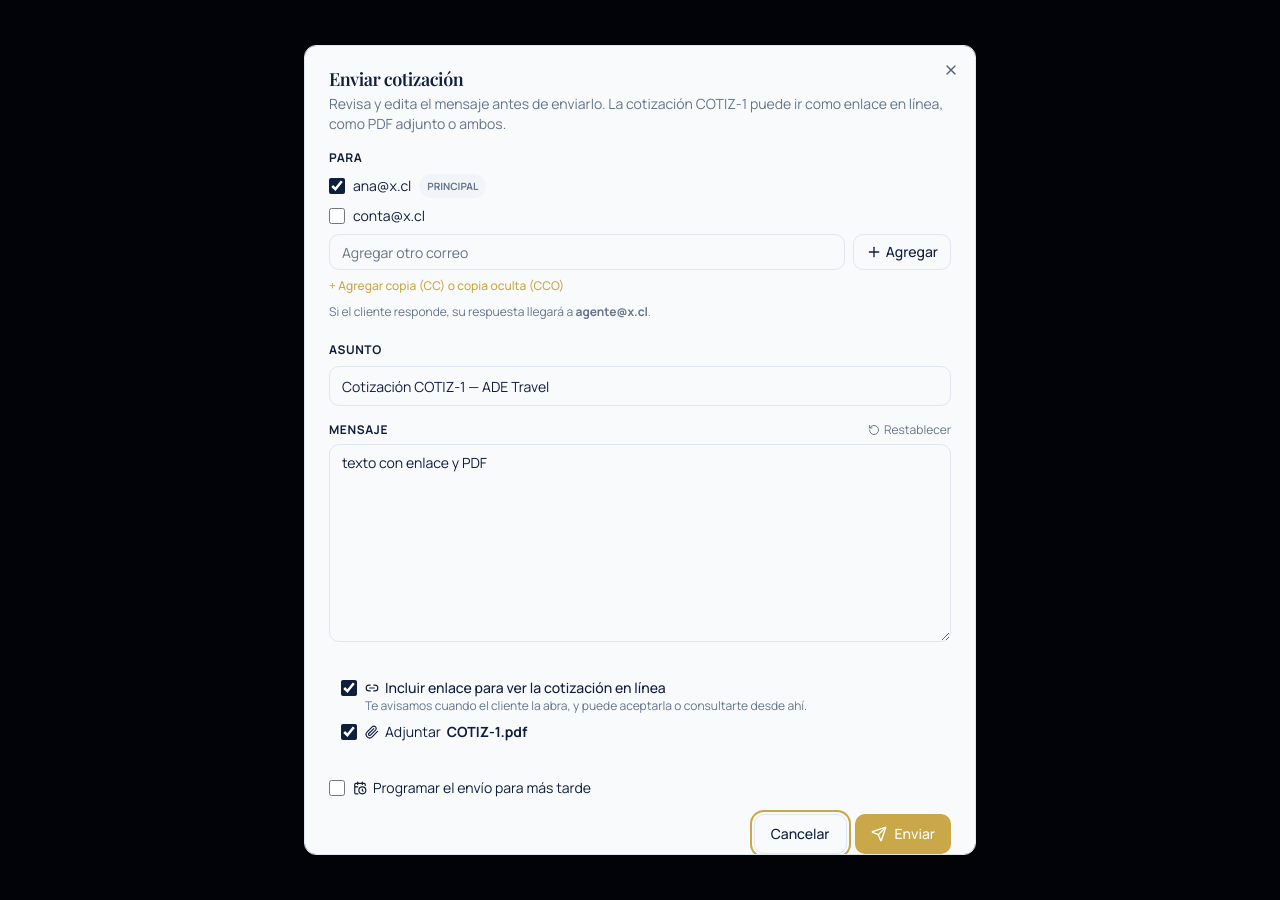
Scenario: SendQuotationDialog › copias, qué se envía y programación › quitar un correo de la copia lo saca de la lista
This screenshot has width=1280, height=900.
Check: the field labelled "Asunto" is shown, box [329,366,951,406]
Click the button "+ Agregar copia (CC) o copia oculta (CCO)". click: (447, 286)
box: [329,278,564,294]
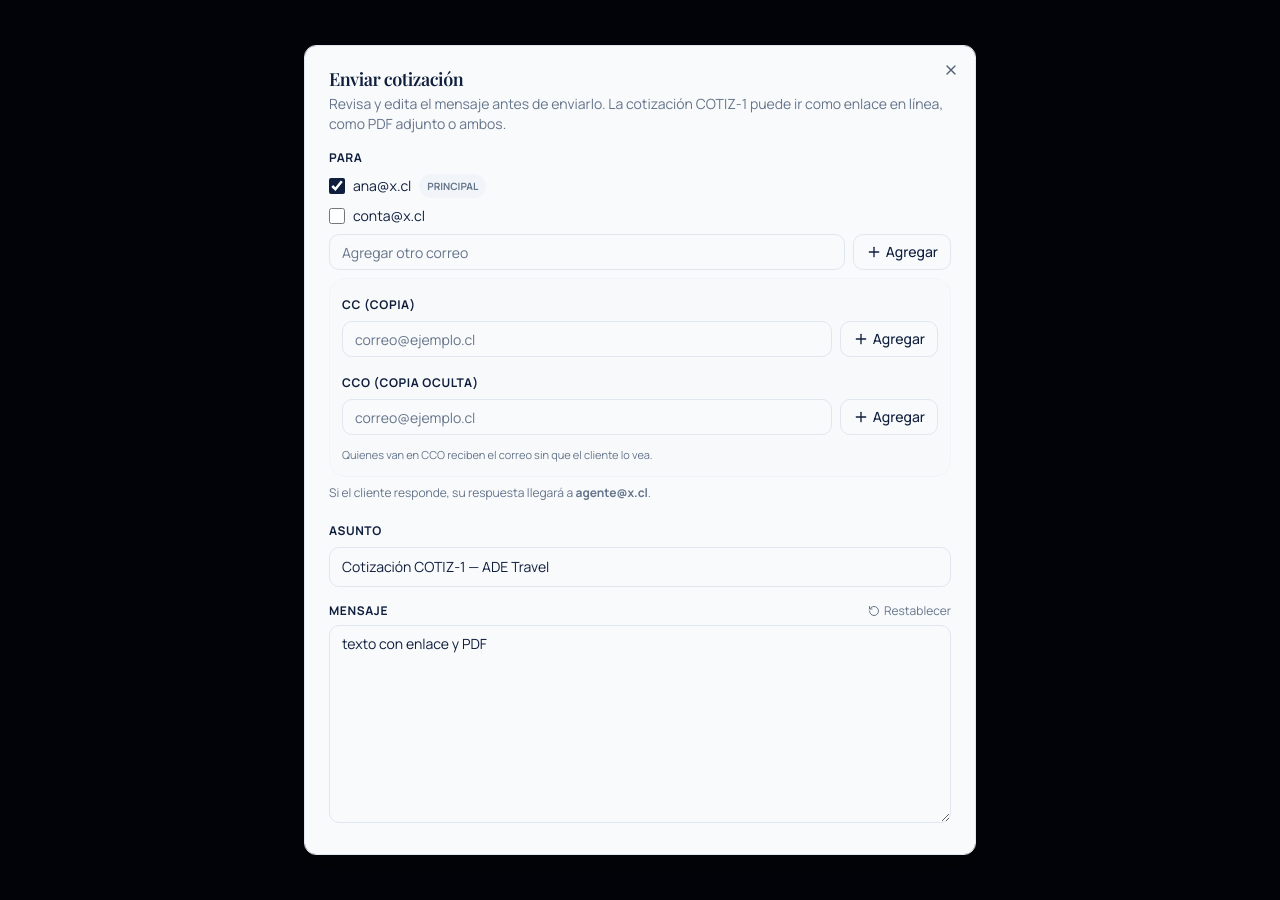
Type "jefe@x.cl" into the field named "Agregar correo en CC (copia)". click: (587, 339)
box: [342,321,832,357]
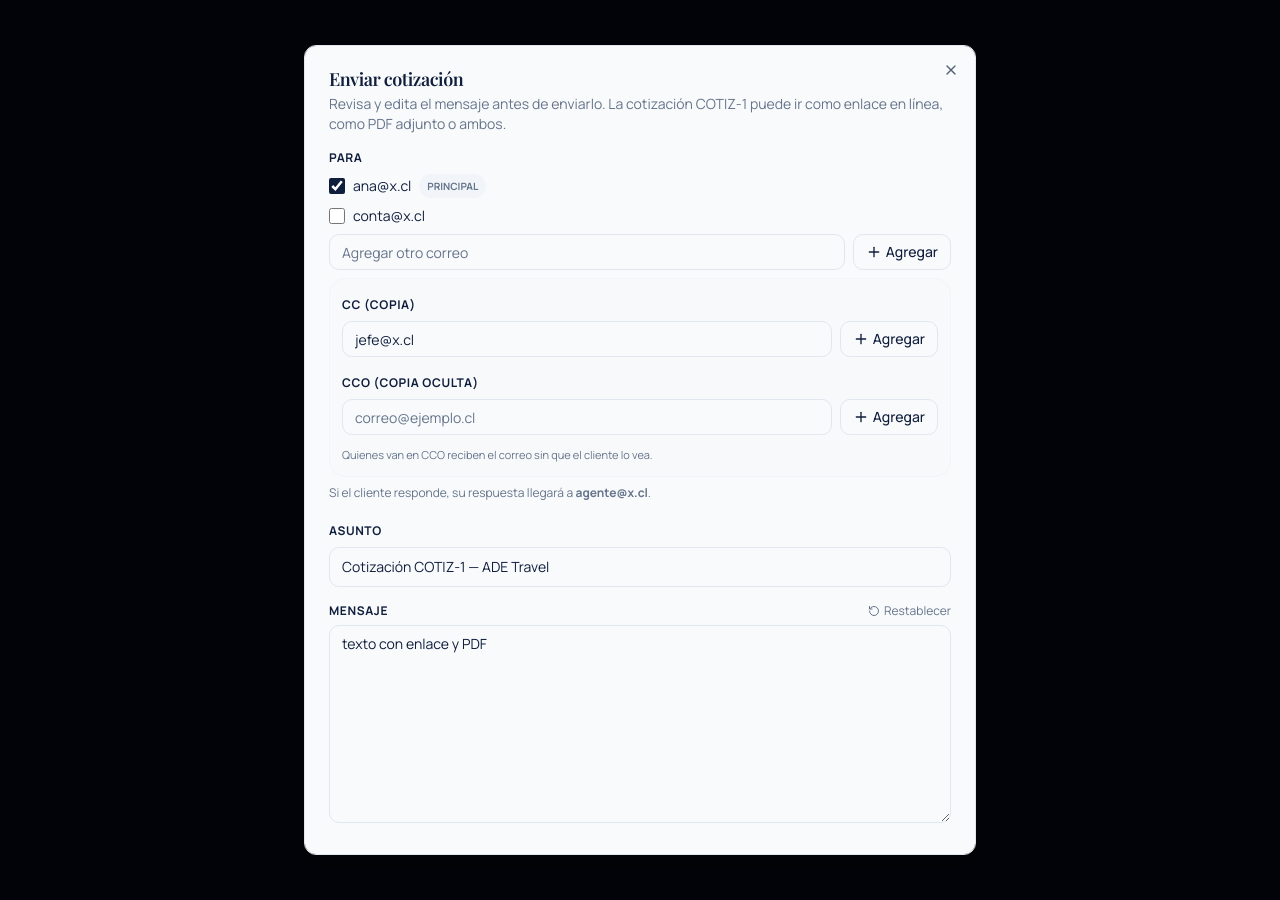
Press Enter in the field named "Agregar correo en CC (copia)", box [342,321,832,357]
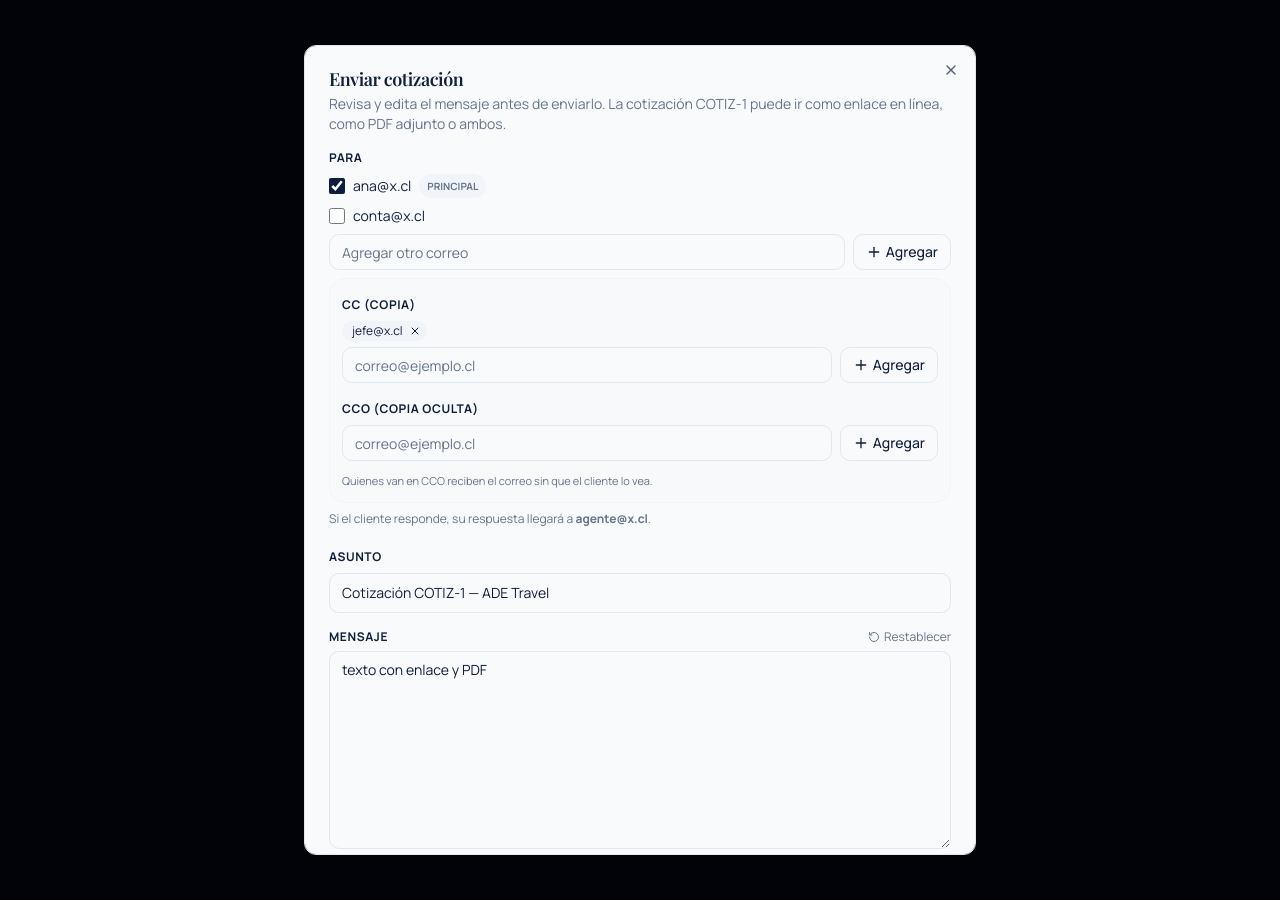
Click the button named "Quitar jefe@x.cl". click: (414, 331)
box: [406,323,422,339]
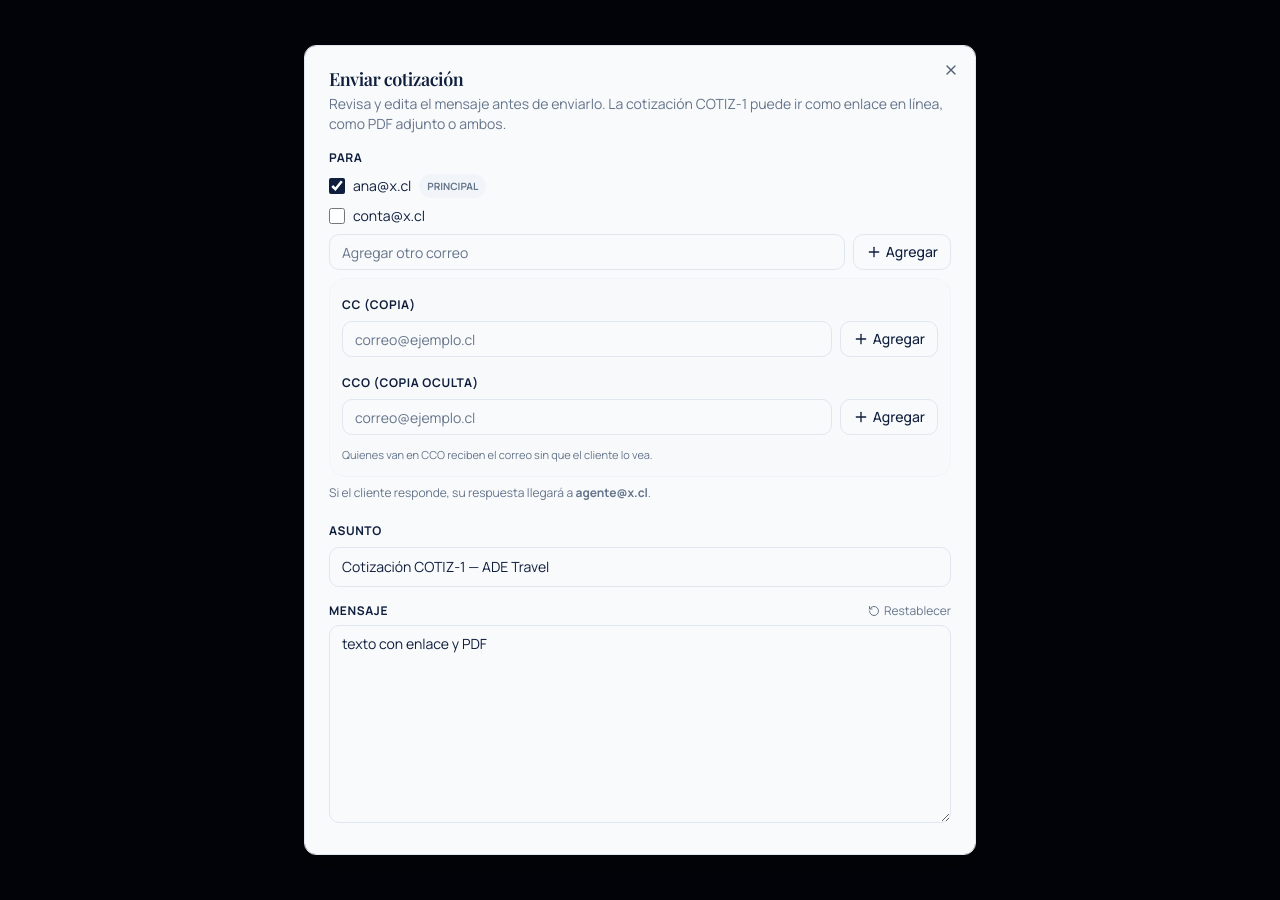
Check: the text "jefe@x.cl" is gone
